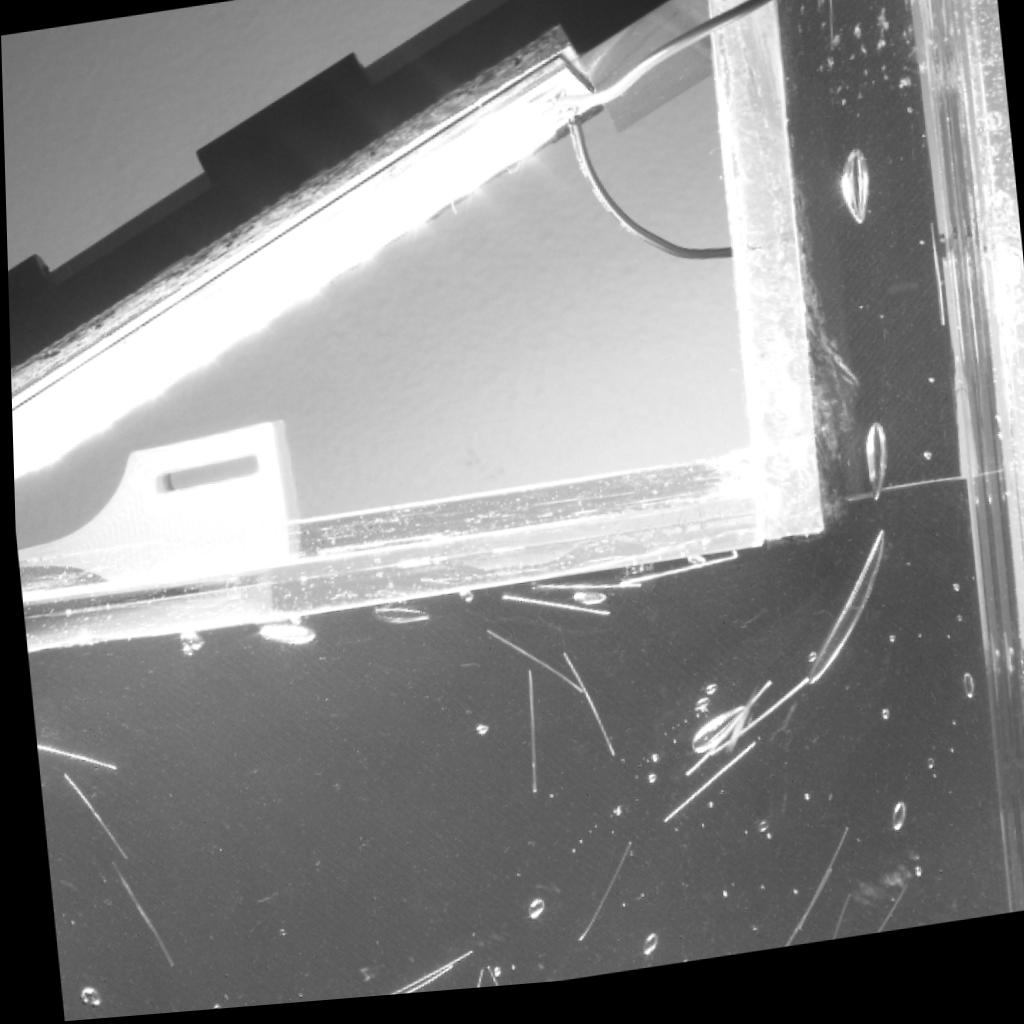Fiber: (680, 690, 772, 790), (703, 685, 809, 768), (656, 749, 754, 836), (102, 863, 175, 975), (480, 631, 583, 708), (556, 659, 615, 771), (570, 846, 632, 951), (58, 769, 126, 861), (788, 836, 844, 947), (612, 562, 739, 601), (775, 878, 830, 960), (378, 954, 470, 1001), (495, 598, 610, 626), (32, 737, 114, 774), (386, 968, 454, 1001), (925, 234, 944, 342), (867, 895, 905, 948), (520, 674, 534, 804), (529, 590, 644, 601), (477, 968, 500, 994), (826, 0, 834, 65), (467, 968, 483, 996)
